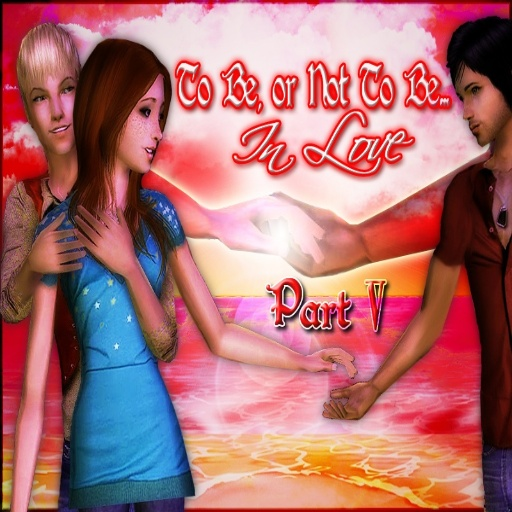hand: (249, 187, 368, 279), (217, 192, 327, 267), (72, 204, 137, 279), (28, 210, 86, 274), (337, 369, 385, 425), (303, 346, 358, 382)
